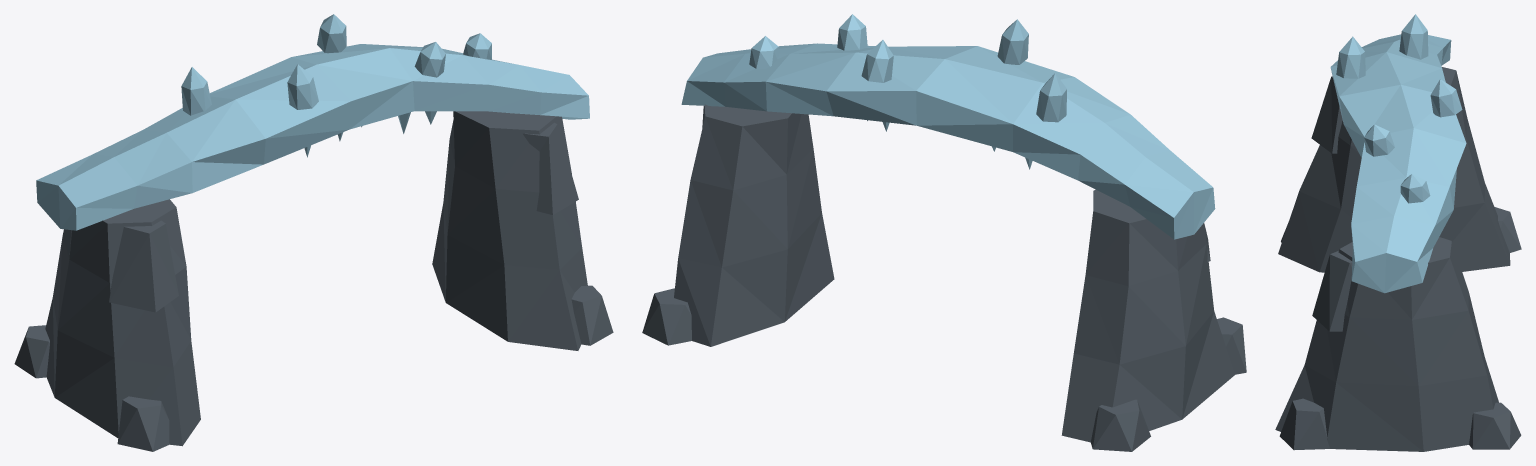
The model's file is FM_IcePass.fbx.
3 renders of one model, left to right at view 1: azimuth 30°, elevation 25°; view 2: azimuth 150°, elevation 25°; view 3: azimuth 270°, elevation 25°, orthographic. The views are drawn at different scales.
Visible parts, largest first — view 1: FM_IcePass_Rock, FM_IcePass_Ice; view 2: FM_IcePass_Rock, FM_IcePass_Ice; view 3: FM_IcePass_Rock, FM_IcePass_Ice.
Part boxes in pixels (x1,y1,x2,y2): FM_IcePass_Rock: [14, 111, 613, 451]; FM_IcePass_Ice: [36, 14, 589, 230]; FM_IcePass_Rock: [642, 104, 1246, 451]; FM_IcePass_Ice: [681, 14, 1215, 239]; FM_IcePass_Rock: [1275, 67, 1521, 451]; FM_IcePass_Ice: [1330, 14, 1466, 293].
Bounding box in the file's own units: 30 × 18 × 14.
